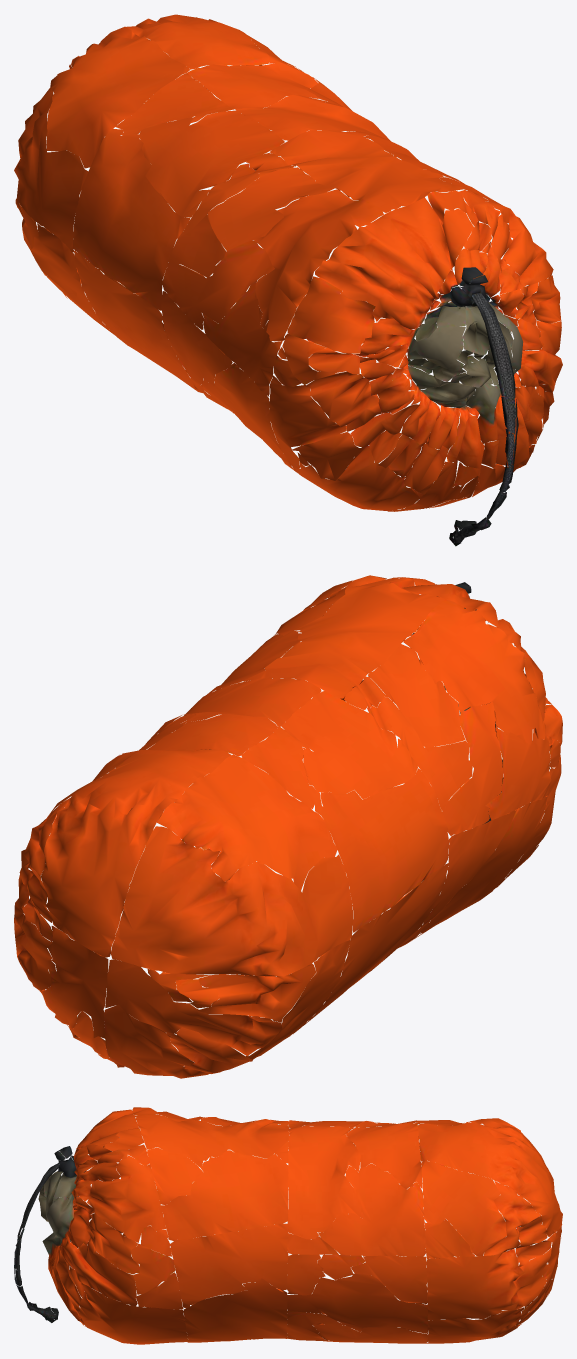
The model's file is sleepsack_prop.glb.
3 renders of one model, top to bottom at view 1: azimuth 30°, elevation 25°; view 2: azimuth 150°, elevation 25°; view 3: azimuth 270°, elevation 25°, orthographic. The views are drawn at different scales.
Visible parts, largest first — view 1: prop_sleepsack; view 2: prop_sleepsack; view 3: prop_sleepsack.
Boxes of the visible parts, x1,y1,x2,y2 form: prop_sleepsack: (14,14,562,546); prop_sleepsack: (14,575,562,1078); prop_sleepsack: (14,1107,562,1344).
Bounding box in the file's own units: 0.414 × 0.4073 × 0.9791.
1 material, 1 textured.
